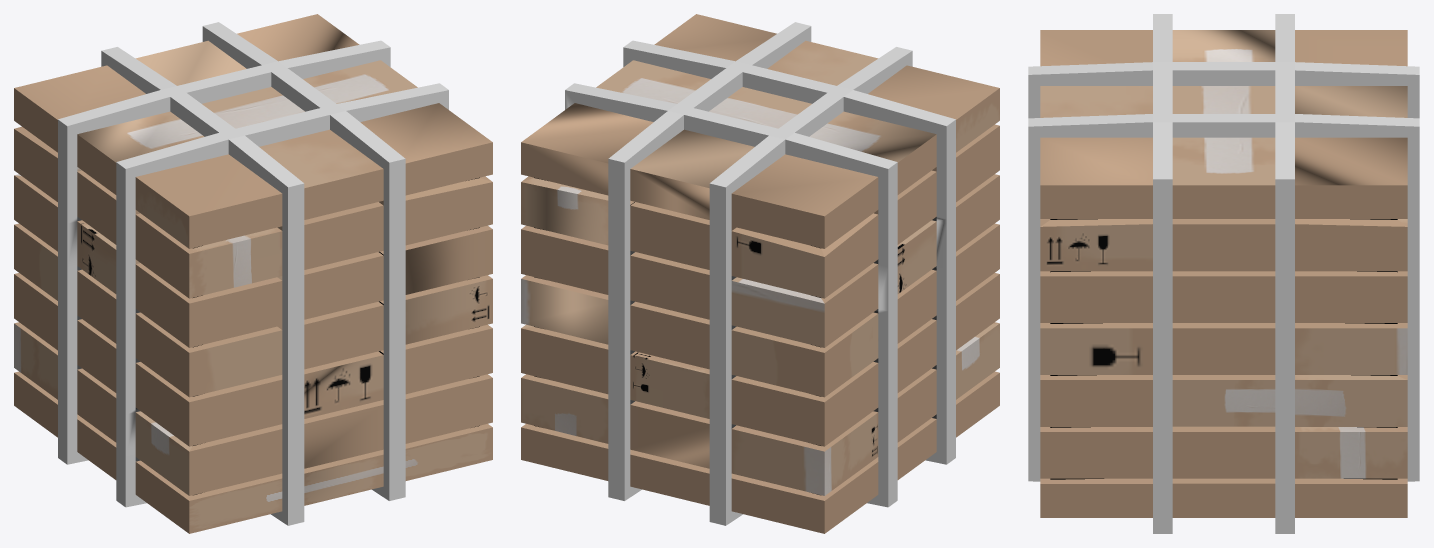
File: Carton compacto(sale de la 1ra maquina de cartón).fbx
The picture shows the model from 3 angles, left to right: view 1: azimuth 30°, elevation 25°; view 2: azimuth 150°, elevation 25°; view 3: azimuth 270°, elevation 25°; orthographic projection. The views are drawn at different scales.
Visible parts, largest first — view 1: Cube; view 2: Cube; view 3: Cube.
Part boxes in pixels (<box>): Cube: <box>14,14,492,533</box>; Cube: <box>521,14,999,533</box>; Cube: <box>1028,14,1419,533</box>.
Size of the model in its own units: 63.94 by 65.57 by 63.94.
